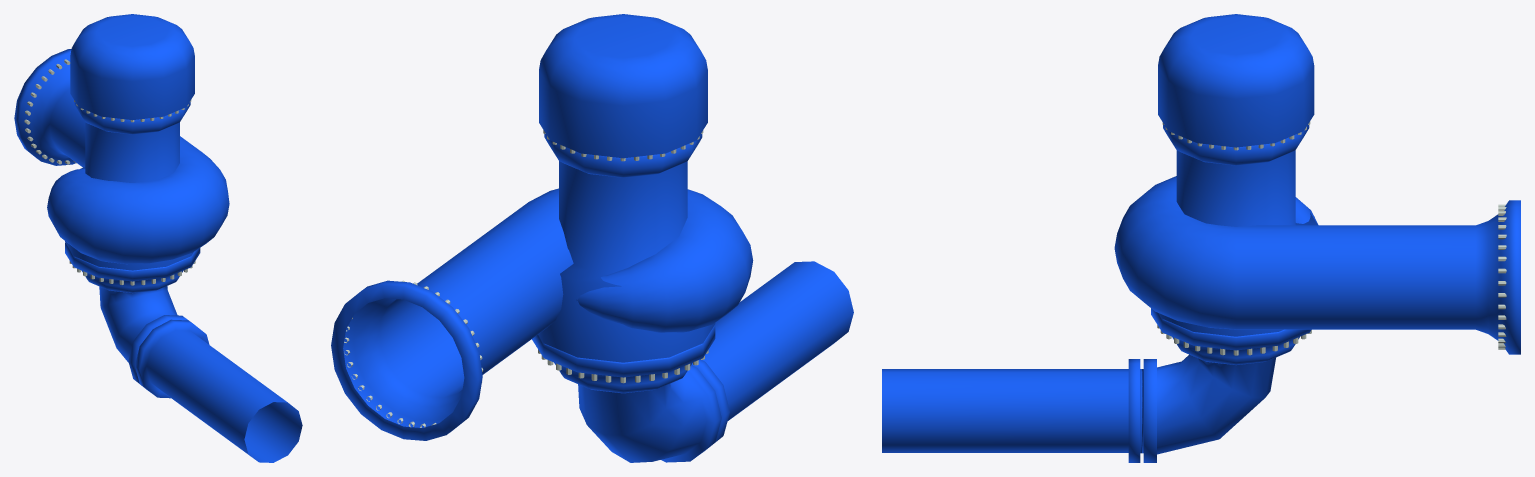
Rendered from WaterPump.fbx.
The picture shows the model from 3 angles, left to right: view 1: azimuth 30°, elevation 25°; view 2: azimuth 150°, elevation 25°; view 3: azimuth 270°, elevation 25°; orthographic projection. The views are drawn at different scales.
Parts seen in each view (by area): view 1: polySurface1, pTorus1; view 2: polySurface1, pTorus1; view 3: polySurface1, pTorus1.
Boxes of the visible parts, x1,y1,x2,y2 form: polySurface1: (65, 14, 302, 462); pTorus1: (14, 49, 229, 264); polySurface1: (532, 14, 853, 462); pTorus1: (331, 188, 753, 440); polySurface1: (882, 14, 1317, 462); pTorus1: (1114, 176, 1520, 354).
Size of the model in its own units: 3 by 5.33 by 7.31.
